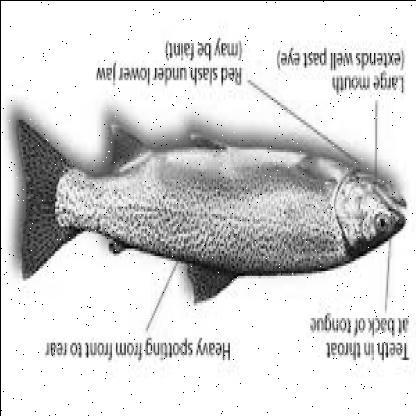fish: (12, 102, 408, 302)
